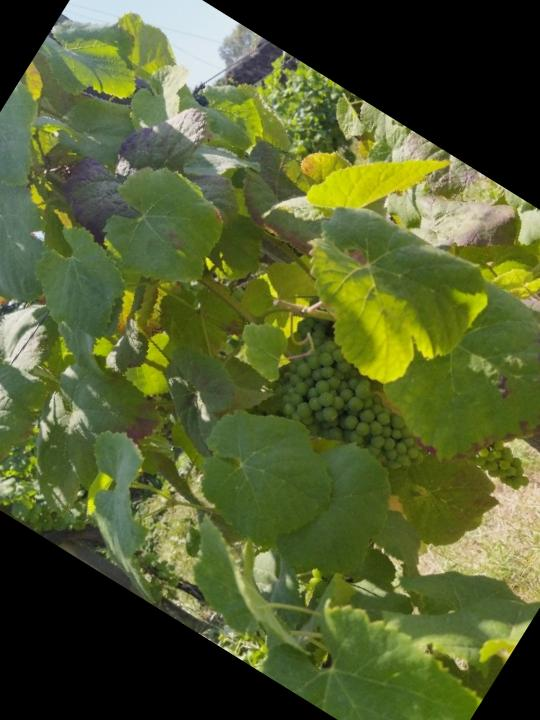grape: (257, 322, 455, 498)
